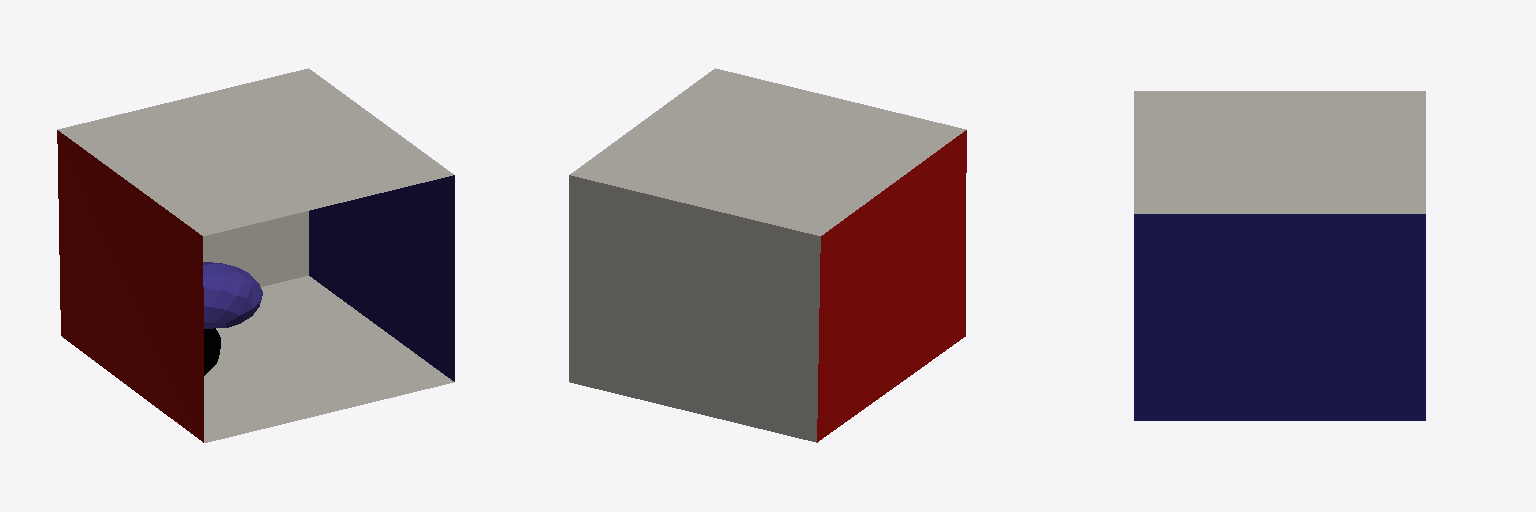
Rendered from CornellBox-Ellipsoid-144.obj.
The picture shows the model from 3 angles: view 1: azimuth 30°, elevation 25°; view 2: azimuth 150°, elevation 25°; view 3: azimuth 270°, elevation 25°; orthographic projection.
Visible parts, largest first — view 1: ceiling, leftWall, floor, rightWall, backWall, leftSphere, rightSphere; view 2: backWall, ceiling, leftWall; view 3: rightWall, ceiling.
Part boxes in pixels (x1,y1,x2,y2): ceiling: (58,68,453,235); leftWall: (57,130,203,442); floor: (204,276,453,442); rightWall: (309,175,454,381); backWall: (203,211,308,286); leftSphere: (203,262,262,328); rightSphere: (204,328,220,375); backWall: (569,175,820,442); ceiling: (570,68,965,235); leftWall: (817,130,966,442); rightWall: (1134,214,1425,420); ceiling: (1134,91,1425,213).
Size of the model in its own units: 2.02 by 1.59 by 2.03.